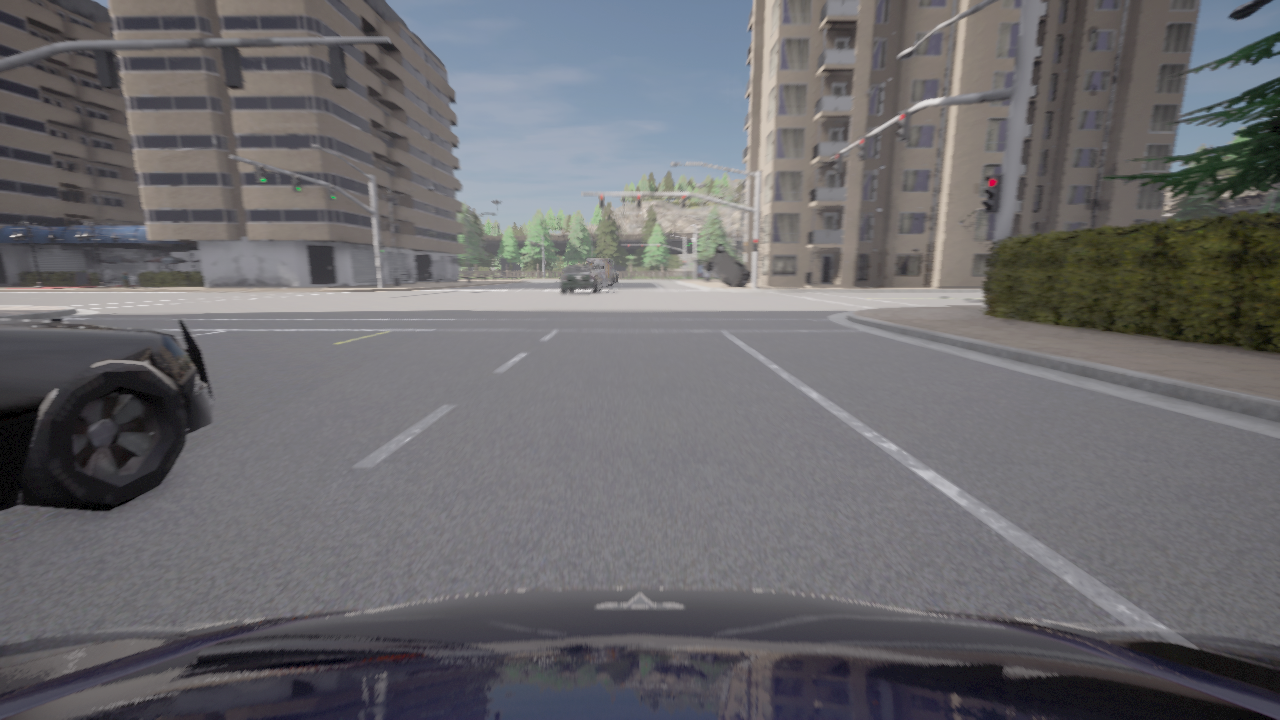cyclist: (0, 588, 1279, 719), (0, 318, 214, 511), (704, 243, 752, 287), (561, 263, 601, 293), (587, 259, 616, 286), (615, 272, 619, 282), (614, 277, 615, 283)
pedestrian: (123, 272, 129, 288)
